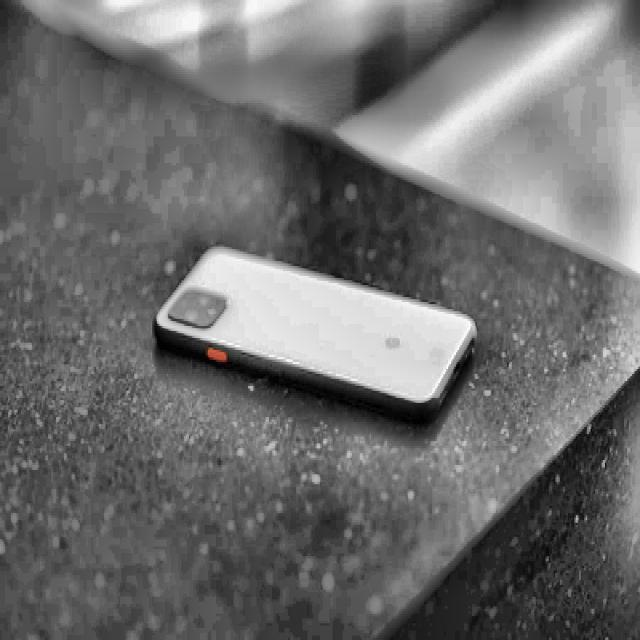Phone: (152, 245, 478, 428)
